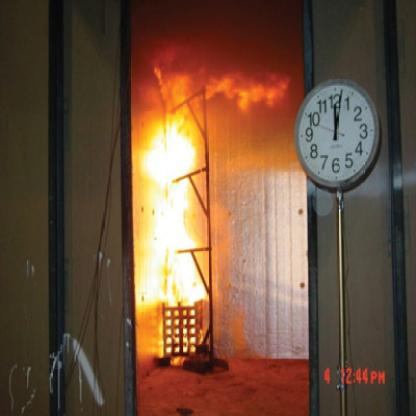fire: (133, 121, 208, 321)
smoke: (129, 0, 310, 118)
